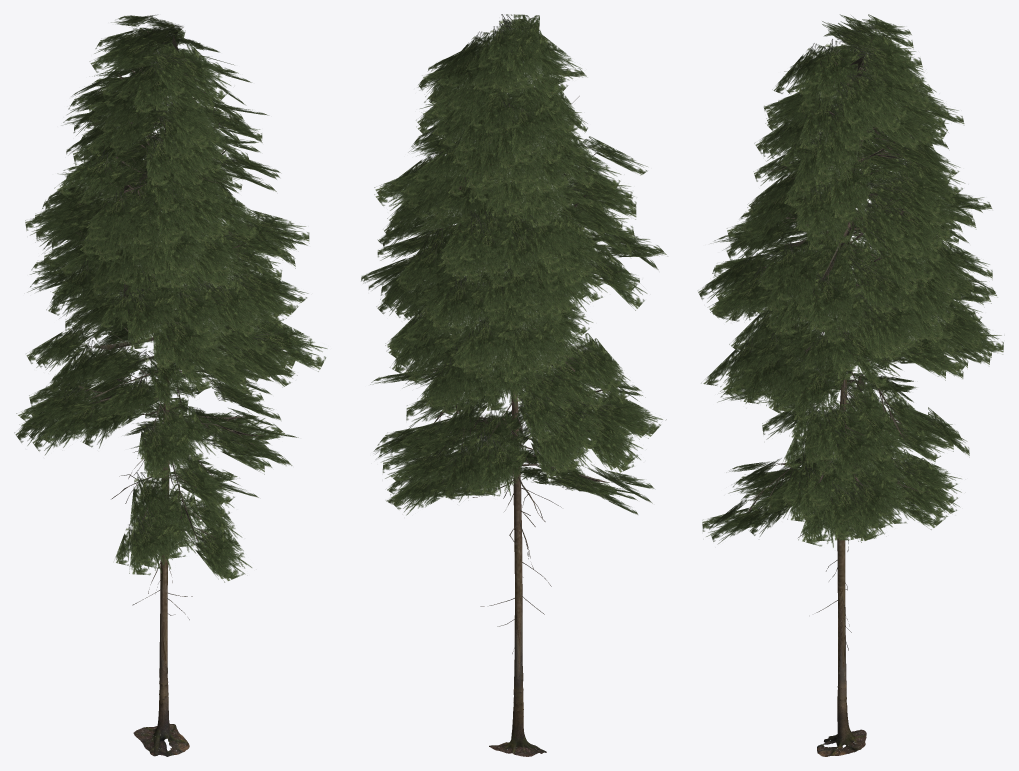
Rendered from fir_0.glb.
3 renders of one model, left to right at view 1: azimuth 30°, elevation 25°; view 2: azimuth 150°, elevation 25°; view 3: azimuth 270°, elevation 25°, orthographic. The views are drawn at different scales.
Parts seen in each view (by area): view 1: fir_0_leaves, fir_tree_01_trunk_a, fir_tree_01_bark; view 2: fir_0_leaves, fir_tree_01_trunk_a, fir_tree_01_bark, fir_tree_01_dead_branches; view 3: fir_0_leaves, fir_tree_01_trunk_a, fir_tree_01_bark.
Part boxes in pixels (bbox=[...]): fir_0_leaves: bbox=[14, 15, 327, 582]; fir_tree_01_trunk_a: bbox=[133, 96, 189, 756]; fir_tree_01_bark: bbox=[61, 26, 263, 541]; fir_0_leaves: bbox=[361, 14, 667, 515]; fir_tree_01_trunk_a: bbox=[489, 177, 546, 756]; fir_tree_01_bark: bbox=[402, 95, 623, 495]; fir_tree_01_dead_branches: bbox=[472, 411, 561, 653]; fir_0_leaves: bbox=[698, 14, 1003, 547]; fir_tree_01_trunk_a: bbox=[817, 152, 866, 756]; fir_tree_01_bark: bbox=[744, 38, 953, 513].
Size of the model in its own units: 7.44 by 18.95 by 7.23.
4 materials, 4 textured.
